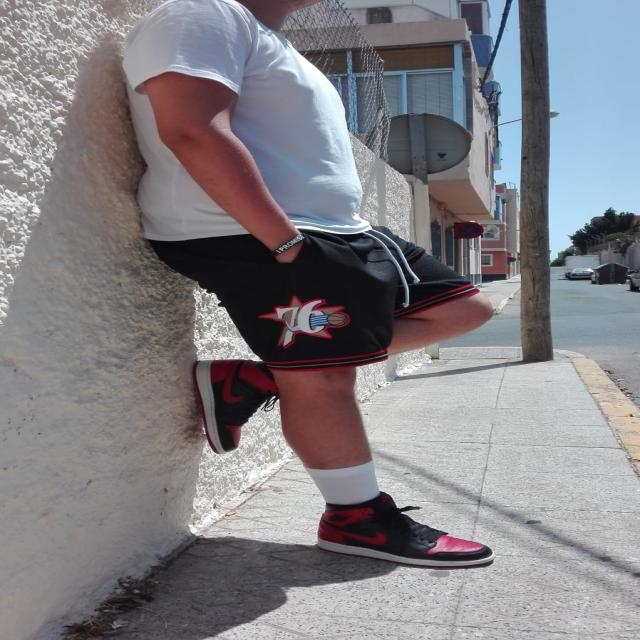shoe: (298, 491, 506, 576), (186, 343, 297, 461)
